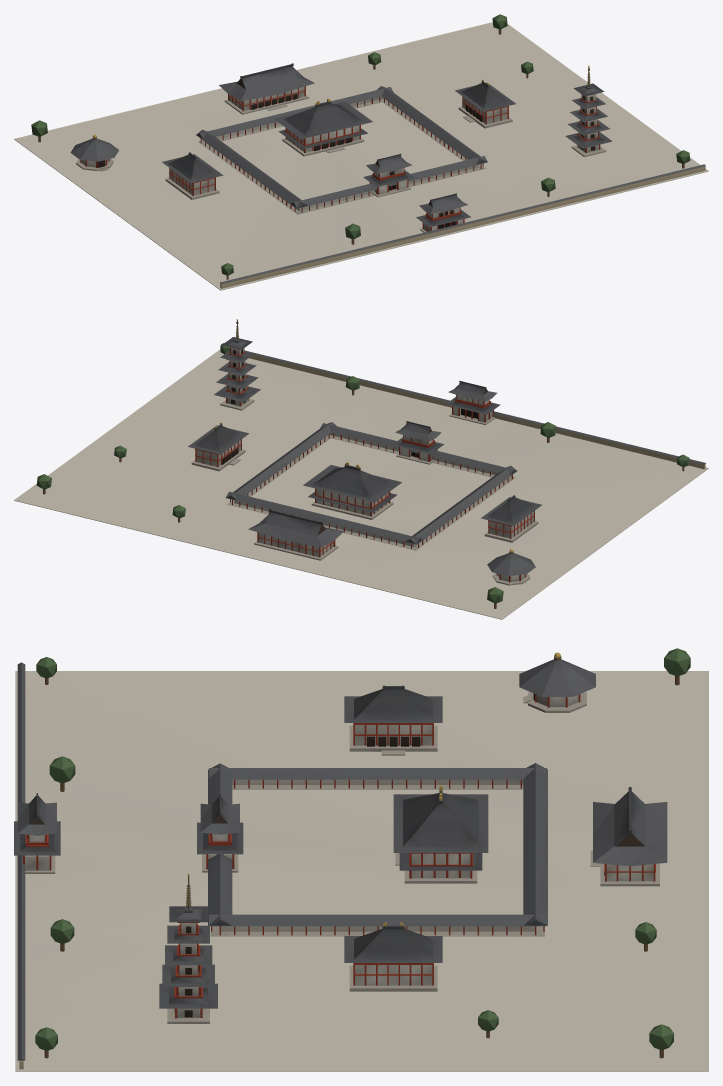
File: kofukuji.glb
The picture shows the model from 3 angles, top to bottom: view 1: azimuth 30°, elevation 25°; view 2: azimuth 150°, elevation 25°; view 3: azimuth 270°, elevation 25°; orthographic projection. The views are drawn at different scales.
Parts seen in each view (by area): view 1: p0_grounds, p1_halls, p2_pagoda; view 2: p0_grounds, p1_halls, p2_pagoda; view 3: p0_grounds, p1_halls, p2_pagoda.
Part boxes in pixels (x1=…): p0_grounds: x1=14, y1=22, x2=708, y2=290; p1_halls: x1=70, y1=86, x2=512, y2=237; p2_pagoda: x1=31, y1=14, x2=690, y2=279; p0_grounds: x1=14, y1=345, x2=708, y2=619; p1_halls: x1=191, y1=394, x2=538, y2=585; p2_pagoda: x1=36, y1=319, x2=689, y2=608; p0_grounds: x1=15, y1=662, x2=708, y2=1071; p1_halls: x1=23, y1=652, x2=659, y2=991; p2_pagoda: x1=14, y1=648, x2=690, y2=1058.
Size of the model in its own units: 300 by 49.86 by 220.
